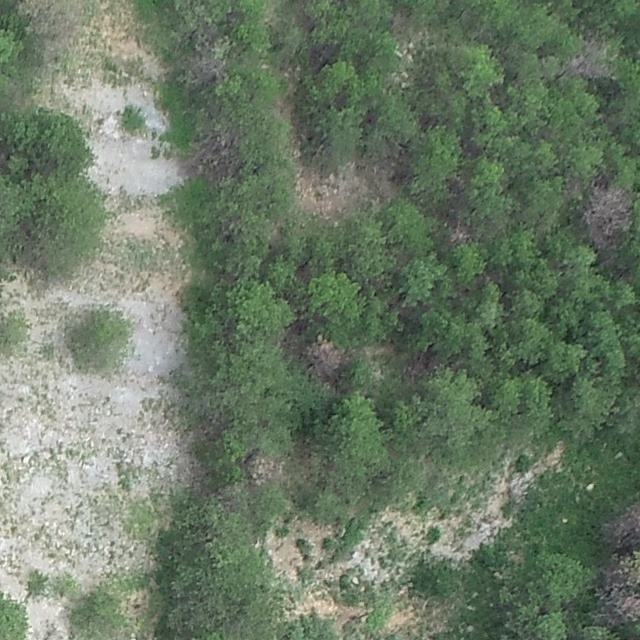unhealthy: (593, 552, 638, 626), (580, 184, 632, 248), (192, 129, 244, 179), (564, 34, 614, 81), (598, 497, 640, 547), (23, 596, 71, 638), (304, 336, 347, 379), (186, 54, 228, 84), (447, 220, 472, 244)
